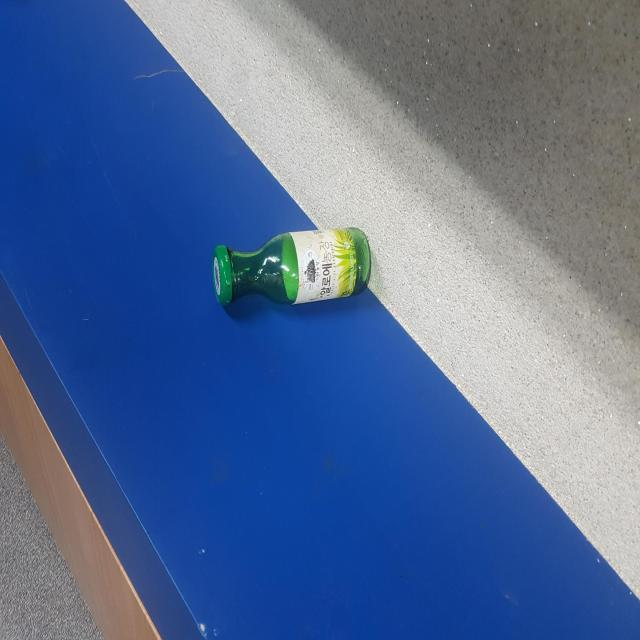glass: (212, 228, 371, 305)
